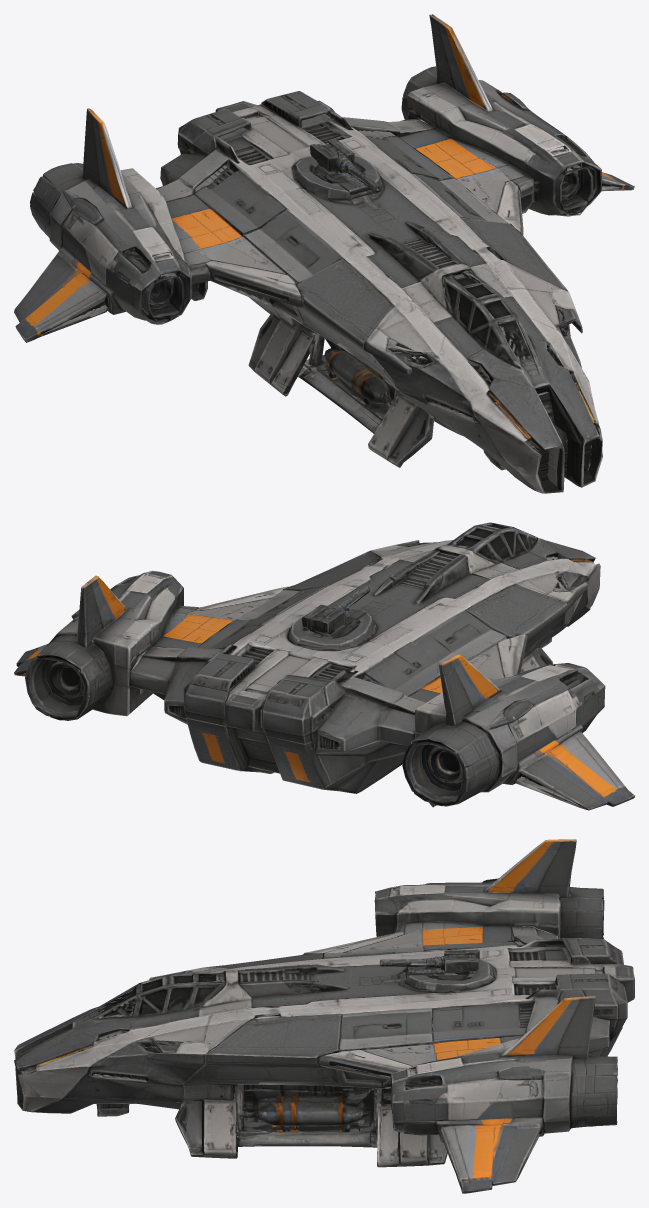
Rendered from bomber-very-high.glb.
3 renders of one model, top to bottom at view 1: azimuth 30°, elevation 25°; view 2: azimuth 150°, elevation 25°; view 3: azimuth 270°, elevation 25°, orthographic. The views are drawn at different scales.
Visible parts, largest first — view 1: Low; view 2: Low; view 3: Low.
Part boxes in pixels (x1,y1,x2,y2): Low: [14, 14, 634, 493]; Low: [14, 522, 634, 810]; Low: [14, 839, 634, 1193].
Bounding box in the file's own units: 1.68 × 0.5872 × 1.62.
Materials: 1 (1 with a texture image).
